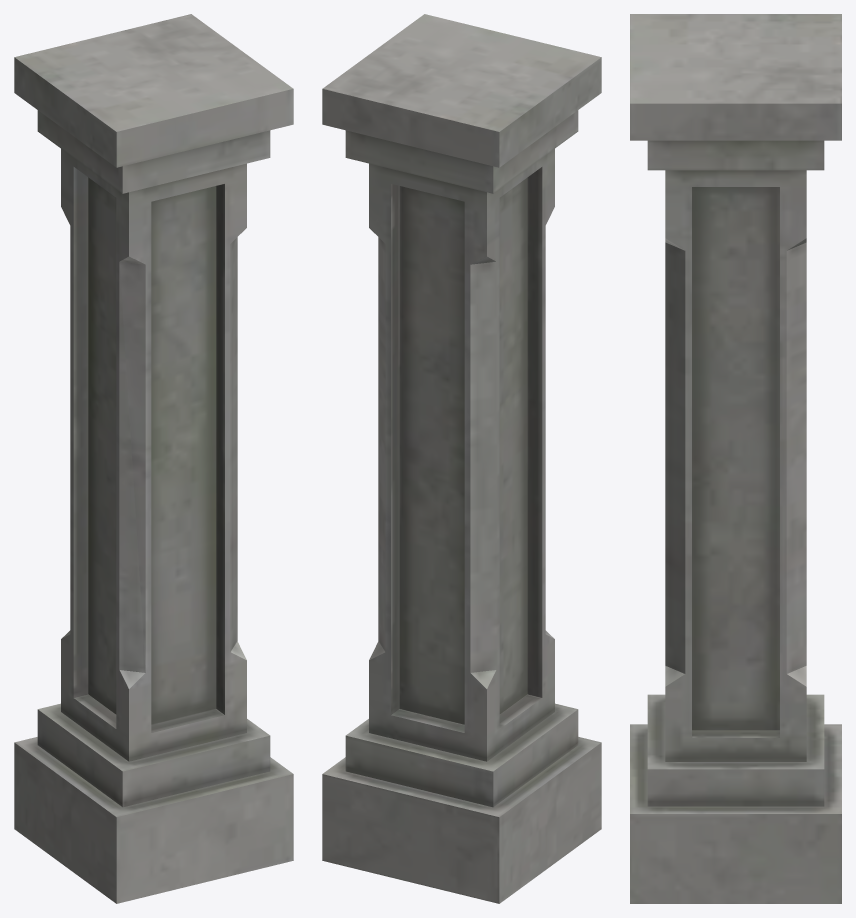
Rendered from temple-pillar.glb.
The picture shows the model from 3 angles, left to right: view 1: azimuth 30°, elevation 25°; view 2: azimuth 150°, elevation 25°; view 3: azimuth 270°, elevation 25°; orthographic projection. The views are drawn at different scales.
Parts seen in each view (by area): view 1: low; view 2: low; view 3: low.
Part boxes in pixels (bbox=[...]): low: bbox=[14, 14, 293, 903]; low: bbox=[322, 14, 601, 903]; low: bbox=[630, 14, 841, 903].
Bounding box in the file's own units: 0.48 × 2 × 0.48.
1 material, 1 textured.
